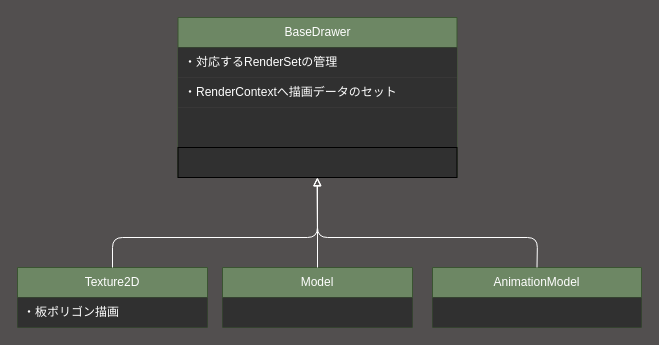
The diagram is 659 pixels wide and 345 high, and some of its shapes have lost their labels. Here are the shapes that lost their labels. From the top down, the centre of each, then its label:
pixel 317 127: ・RenderContextのDrawCountのインクリメント
pixel 317 162: # RenderSet*
pixel 317 312: ・モデル描画
pixel 536 312: ・スキンアニメーションモデル描画
